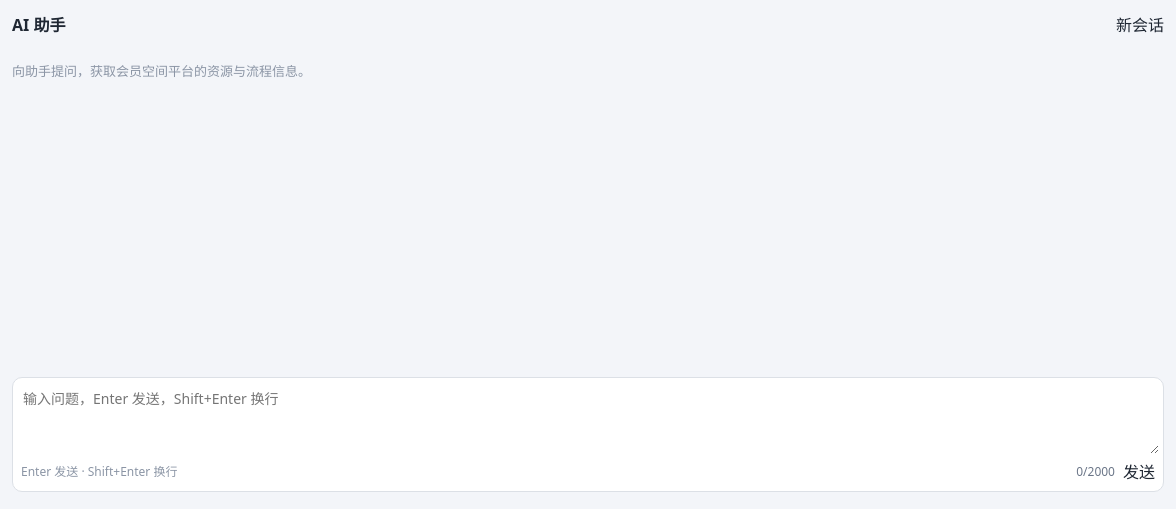
it: AC4 unsent draft survives closing and reopening the panel › clears the stored draft once the message is sent
Type "会员空间的对接流程是什么" into the text box with test id "composer-input". click: (590, 420)
box: [21, 386, 1159, 454]
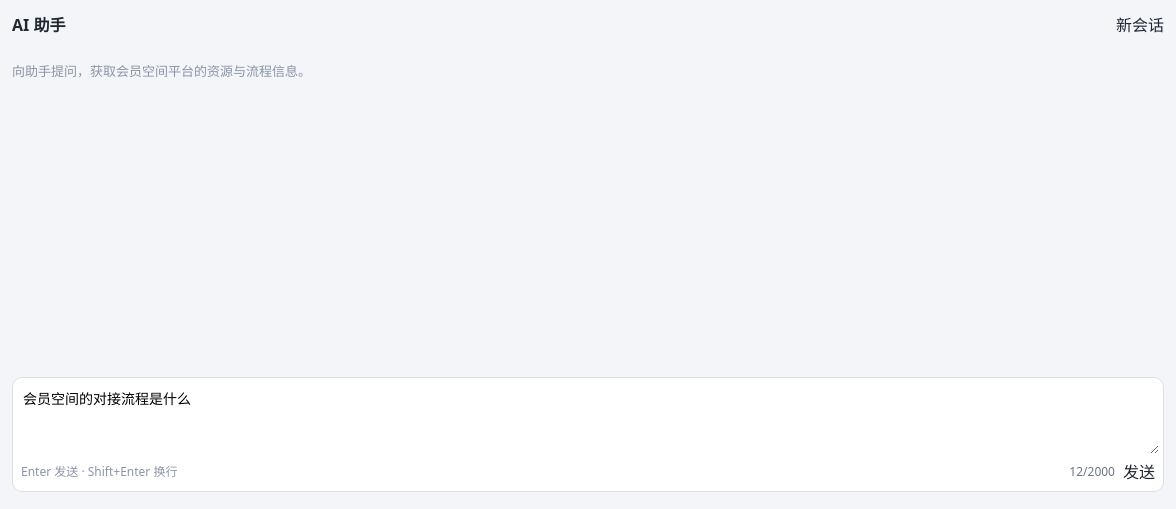
Press Enter in the text box with test id "composer-input", box [21, 386, 1159, 454]
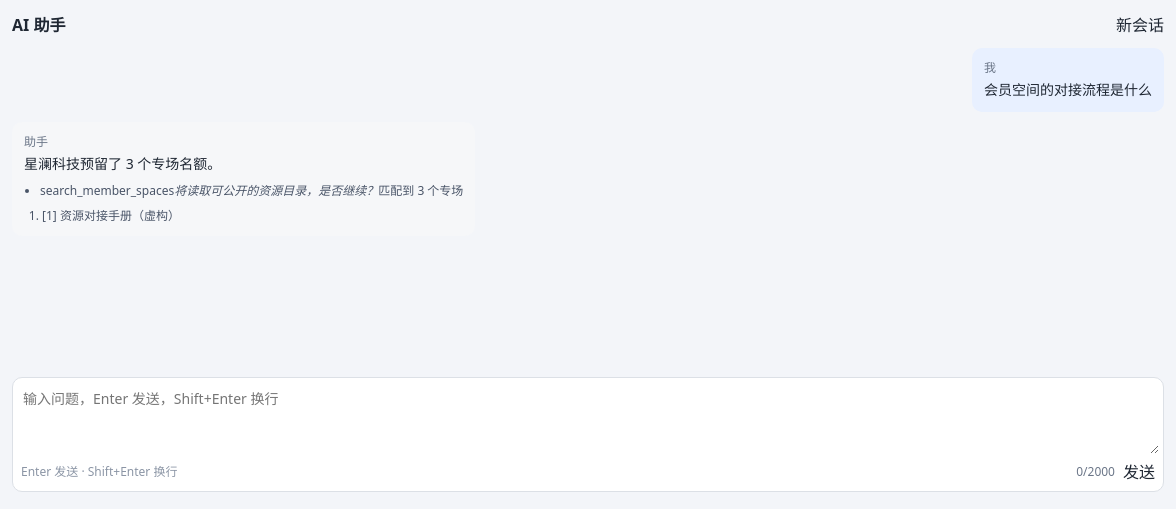
Result: the text box with test id "composer-input" is empty at [21, 386, 1159, 454]
